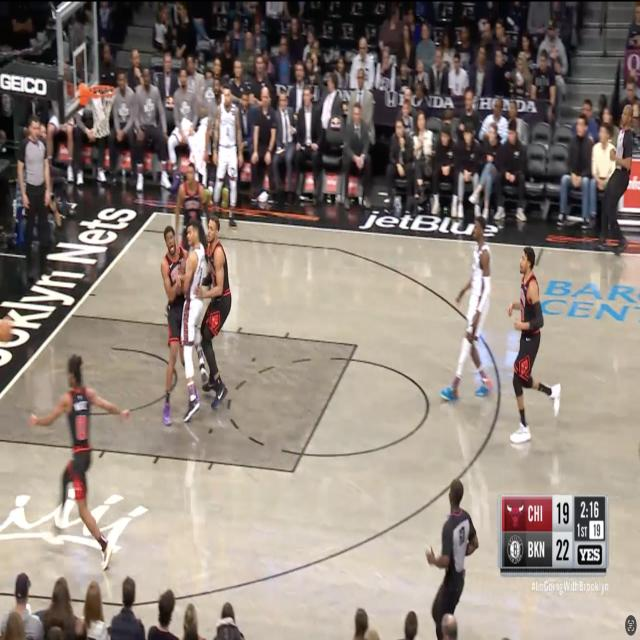Foul: (158, 213, 236, 425)
